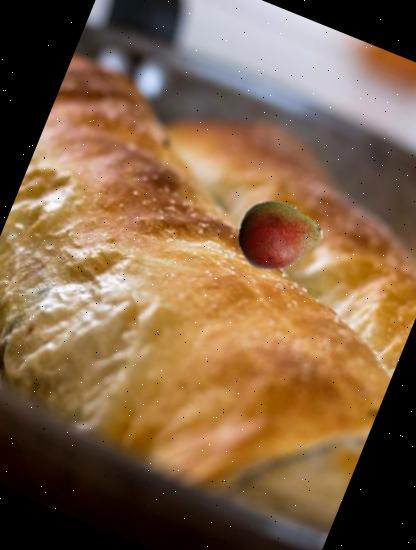Pear: (226, 180, 335, 290)
